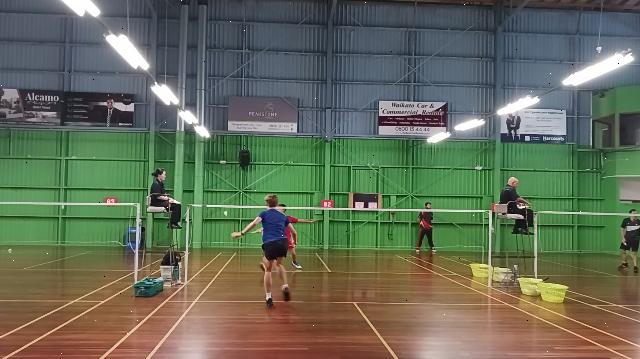Shuttlecock: (224, 208, 232, 218)
